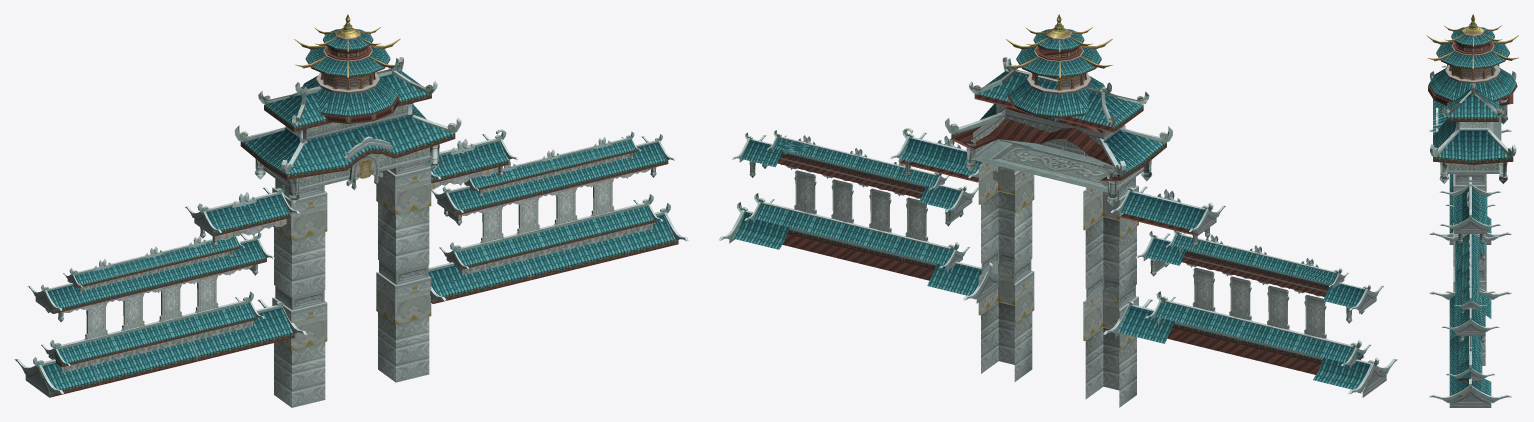
Rendered from W3_HD_GongHuiBoss_changfang_01_D.FBX.
3 renders of one model, left to right at view 1: azimuth 30°, elevation 25°; view 2: azimuth 150°, elevation 25°; view 3: azimuth 270°, elevation 25°, orthographic. The views are drawn at different scales.
Parts seen in each view (by area): view 1: W3_HD_GongHuiBoss_fangzi_01_03_D, W3_HD_GongHuiBoss_fangzi_01_02_D, W3_HD_GongHuiBoss_fangzi_01_11_D, W3_HD_GongHuiBoss_fangzi_01_07_D, W3_HD_GongHuiBoss_fangzi_01_09_D, W3_HD_GongHuiBoss_fangzi_01_05_D, W3_HD_GongHuiBoss_fangzi_01_01_D, W3_HD_GongHuiBoss_fangzi_01_08_D, W3_HD_GongHuiBoss_fangzi_01_04_D, W3_HD_GongHuiBoss_fangzi_01_12_D, W3_HD_GongHuiBoss_fangzi_01_10_D; view 2: W3_HD_GongHuiBoss_fangzi_01_03_D, W3_HD_GongHuiBoss_fangzi_01_02_D, W3_HD_GongHuiBoss_fangzi_01_11_D, W3_HD_GongHuiBoss_fangzi_01_07_D, W3_HD_GongHuiBoss_fangzi_01_09_D, W3_HD_GongHuiBoss_fangzi_01_05_D, W3_HD_GongHuiBoss_fangzi_01_01_D, W3_HD_GongHuiBoss_fangzi_01_12_D, W3_HD_GongHuiBoss_fangzi_01_10_D, W3_HD_GongHuiBoss_fangzi_01_08_D, W3_HD_GongHuiBoss_fangzi_01_04_D; view 3: W3_HD_GongHuiBoss_fangzi_01_02_D, W3_HD_GongHuiBoss_fangzi_01_01_D, W3_HD_GongHuiBoss_fangzi_01_07_D, W3_HD_GongHuiBoss_fangzi_01_05_D, W3_HD_GongHuiBoss_fangzi_01_04_D, W3_HD_GongHuiBoss_fangzi_01_03_D, W3_HD_GongHuiBoss_fangzi_01_11_D.
Boxes of the visible parts, box(x1,y1,x2,y2) form: W3_HD_GongHuiBoss_fangzi_01_03_D: box(272, 160, 431, 407); W3_HD_GongHuiBoss_fangzi_01_02_D: box(234, 57, 461, 204); W3_HD_GongHuiBoss_fangzi_01_11_D: box(14, 291, 306, 397); W3_HD_GongHuiBoss_fangzi_01_07_D: box(428, 194, 689, 303); W3_HD_GongHuiBoss_fangzi_01_09_D: box(28, 232, 274, 321); W3_HD_GongHuiBoss_fangzi_01_05_D: box(431, 131, 675, 225); W3_HD_GongHuiBoss_fangzi_01_01_D: box(294, 14, 400, 123); W3_HD_GongHuiBoss_fangzi_01_08_D: box(185, 184, 299, 247); W3_HD_GongHuiBoss_fangzi_01_04_D: box(428, 129, 518, 189); W3_HD_GongHuiBoss_fangzi_01_12_D: box(480, 179, 614, 243); W3_HD_GongHuiBoss_fangzi_01_10_D: box(84, 275, 218, 340); W3_HD_GongHuiBoss_fangzi_01_03_D: box(978, 139, 1138, 407); W3_HD_GongHuiBoss_fangzi_01_02_D: box(945, 57, 1172, 206); W3_HD_GongHuiBoss_fangzi_01_11_D: box(1103, 291, 1397, 397); W3_HD_GongHuiBoss_fangzi_01_07_D: box(718, 193, 998, 303); W3_HD_GongHuiBoss_fangzi_01_09_D: box(1136, 230, 1383, 323); W3_HD_GongHuiBoss_fangzi_01_05_D: box(731, 130, 978, 226); W3_HD_GongHuiBoss_fangzi_01_01_D: box(1006, 14, 1112, 118); W3_HD_GongHuiBoss_fangzi_01_12_D: box(794, 170, 928, 242); W3_HD_GongHuiBoss_fangzi_01_10_D: box(1192, 267, 1327, 339); W3_HD_GongHuiBoss_fangzi_01_08_D: box(1110, 183, 1225, 247); W3_HD_GongHuiBoss_fangzi_01_04_D: box(890, 128, 998, 182); W3_HD_GongHuiBoss_fangzi_01_02_D: box(1430, 64, 1516, 183); W3_HD_GongHuiBoss_fangzi_01_01_D: box(1426, 14, 1518, 105); W3_HD_GongHuiBoss_fangzi_01_07_D: box(1429, 288, 1511, 407); W3_HD_GongHuiBoss_fangzi_01_05_D: box(1441, 234, 1499, 342); W3_HD_GongHuiBoss_fangzi_01_04_D: box(1439, 176, 1501, 244); W3_HD_GongHuiBoss_fangzi_01_03_D: box(1453, 173, 1486, 365); W3_HD_GongHuiBoss_fangzi_01_11_D: box(1429, 129, 1511, 244).
Size of the model in its own units: 73.33 by 40.71 by 10.71.
